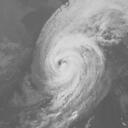cyclone: (31, 21, 106, 97)
